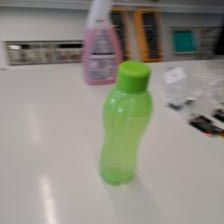bottle: (96, 57, 153, 186)
